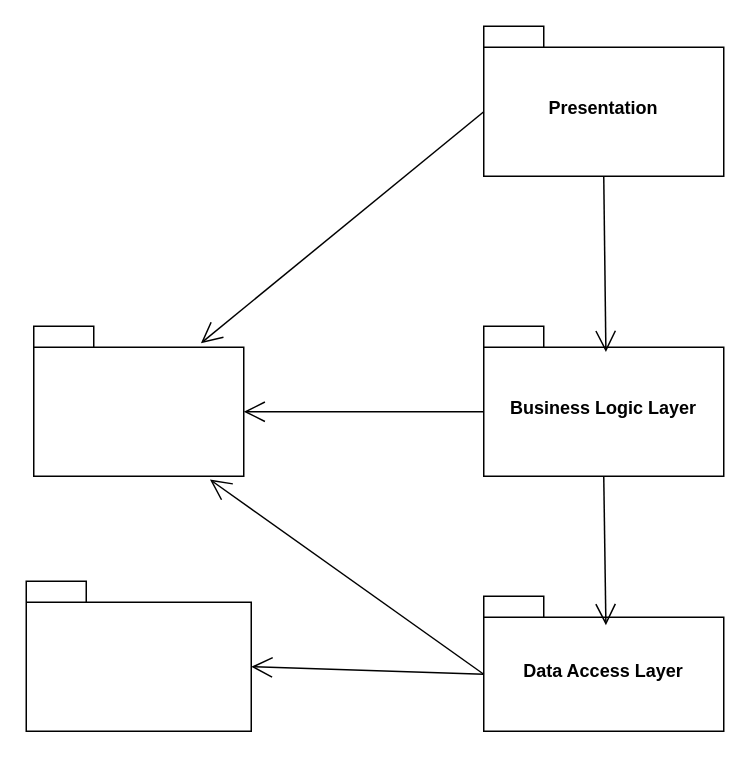
Image size: 750x758. Some labels were removed from this diagram. The centre of each missing label's shape, as x and y in pixels:
Connection: (138,655)
Model: (138,400)
